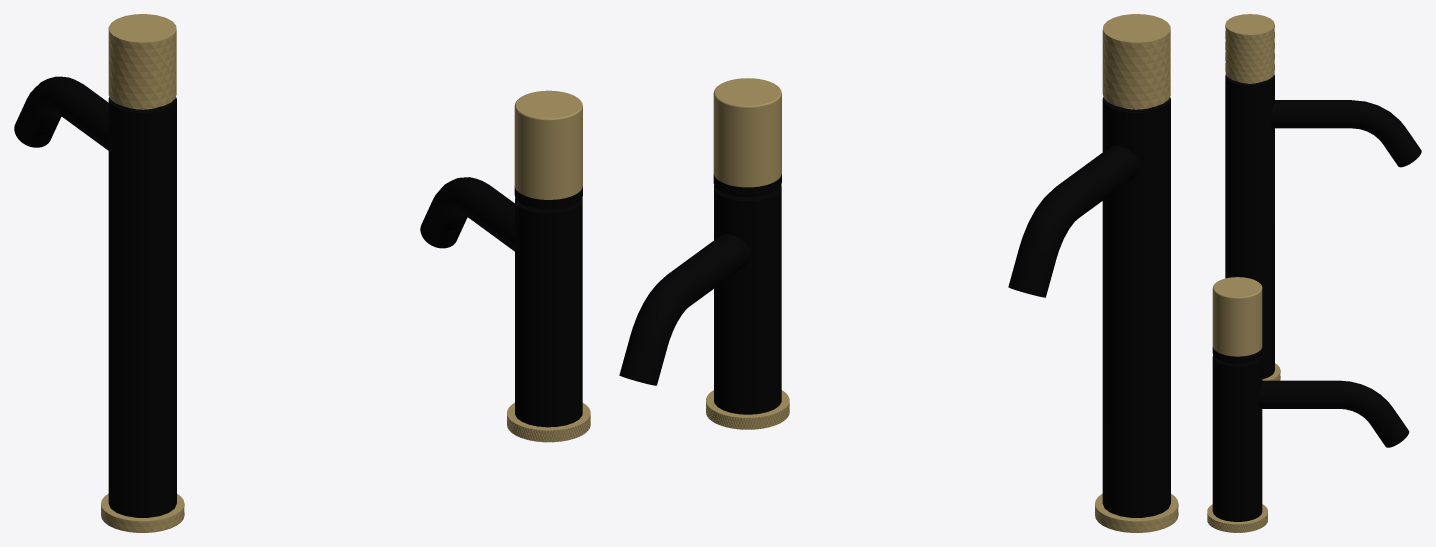
The model's file is STICK_BOHEME_02.glb.
3 views of the same model, side by side, from view 1: azimuth 30°, elevation 25°; view 2: azimuth 150°, elevation 25°; view 3: azimuth 270°, elevation 25° (orthographic). The views are drawn at different scales.
Visible parts, largest first — view 1: Group004, 121 marble, Group003; view 2: Group004, 121 marble, Group003; view 3: Group004, 121 marble, Group003.
Boxes of the visible parts, box(x1,y1,x2,y2) form: Group004: box(14, 14, 184, 532); 121 marble: box(420, 177, 582, 427); Group003: box(507, 90, 590, 442); Group004: box(1008, 14, 1178, 532); 121 marble: box(619, 174, 781, 414); Group003: box(706, 78, 789, 429); Group004: box(1225, 14, 1421, 380); 121 marble: box(1212, 346, 1409, 521); Group003: box(1207, 277, 1267, 532).
Bounding box in the file's own units: 0.334 × 0.3308 × 0.1815.
